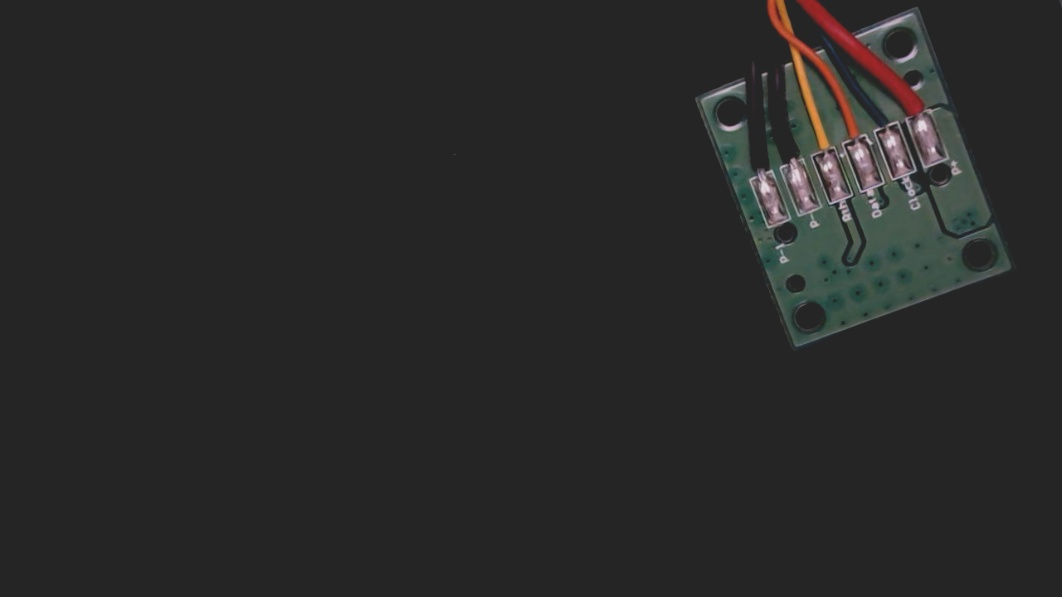Black: (768, 120, 810, 182)
Black1: (732, 133, 777, 194)
Green: (859, 85, 906, 147)
Orange: (827, 92, 873, 157)
Red: (892, 70, 939, 135)
Yellow: (796, 104, 844, 172)
